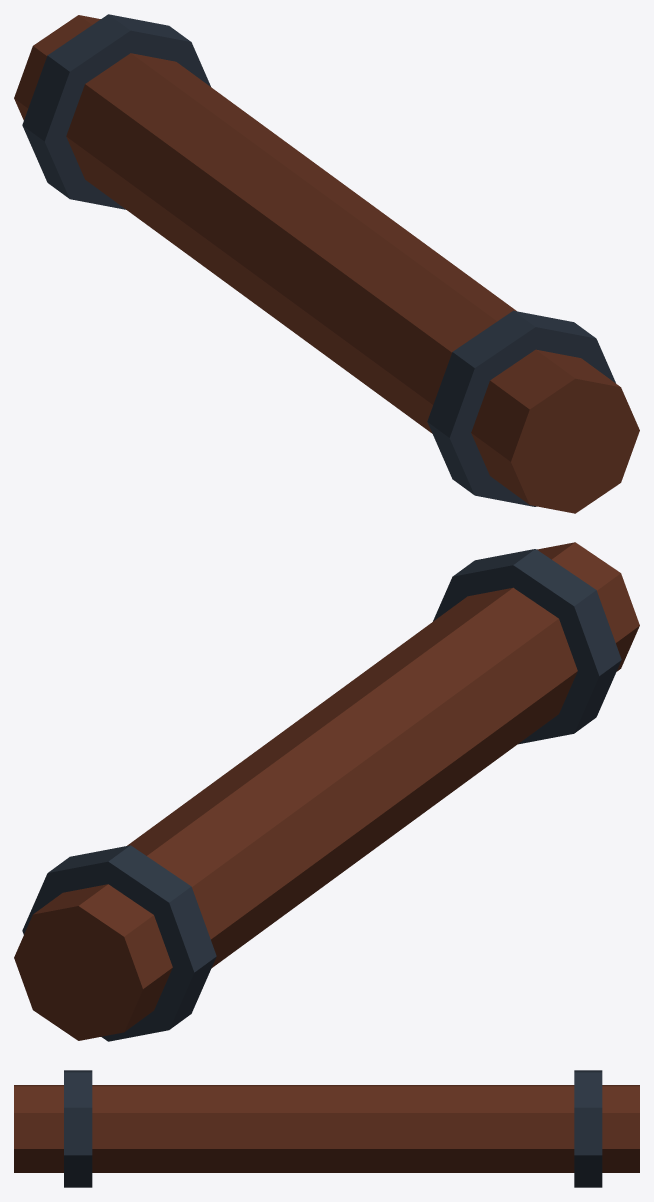
File: ENV_prop_pipe.obj
The picture shows the model from 3 angles, top to bottom: view 1: azimuth 30°, elevation 25°; view 2: azimuth 150°, elevation 25°; view 3: azimuth 270°, elevation 25°; orthographic projection. The views are drawn at different scales.
Visible parts, largest first — view 1: ENV_prop_pipe; view 2: ENV_prop_pipe; view 3: ENV_prop_pipe.
Boxes of the visible parts, bbox=[...] form: ENV_prop_pipe: bbox=[14, 14, 639, 513]; ENV_prop_pipe: bbox=[14, 542, 639, 1041]; ENV_prop_pipe: bbox=[14, 1070, 639, 1187].
Size of the model in its own units: 0.4 by 0.4 by 2.
